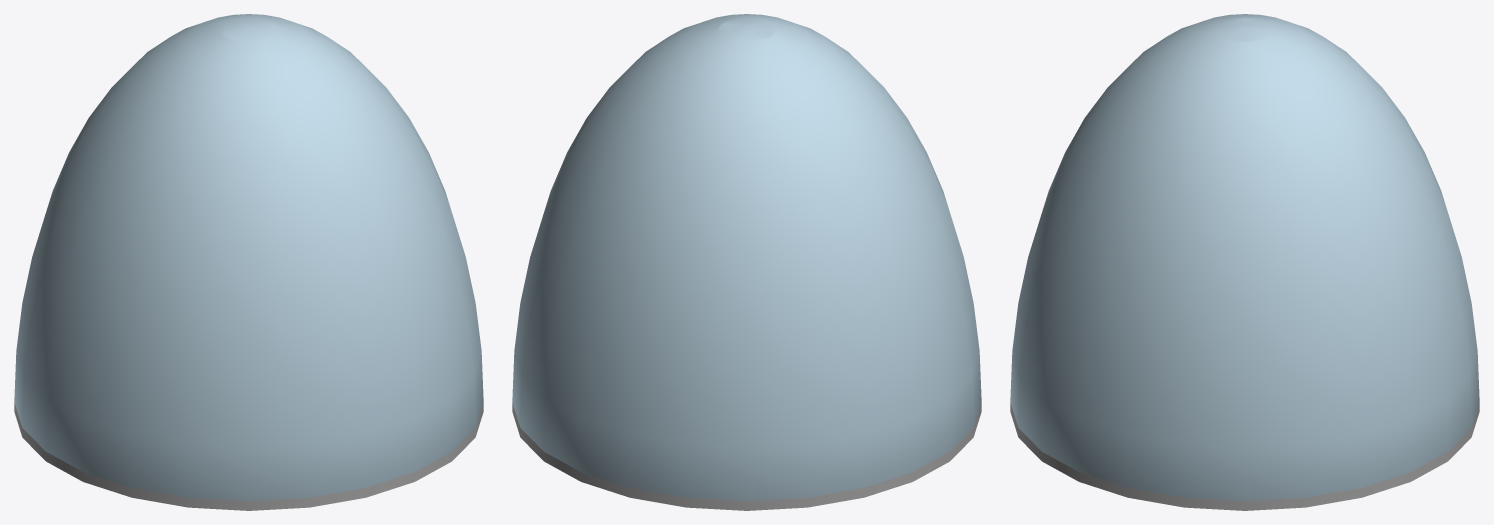
File: The ARK-MK 1.fbx
3 views of the same model, side by side, from view 1: azimuth 30°, elevation 25°; view 2: azimuth 150°, elevation 25°; view 3: azimuth 270°, elevation 25° (orthographic).
Parts seen in each view (by area): view 1: shipDome, shipFloor; view 2: shipDome, shipFloor; view 3: shipDome, shipFloor.
Boxes of the visible parts, x1,y1,x2,y2 form: shipDome: [14, 14, 483, 500]; shipFloor: [14, 403, 483, 510]; shipDome: [512, 14, 981, 500]; shipFloor: [512, 403, 981, 510]; shipDome: [1010, 14, 1479, 500]; shipFloor: [1010, 403, 1479, 510].
Bounding box in the file's own units: 3455 × 3126 × 3455.
